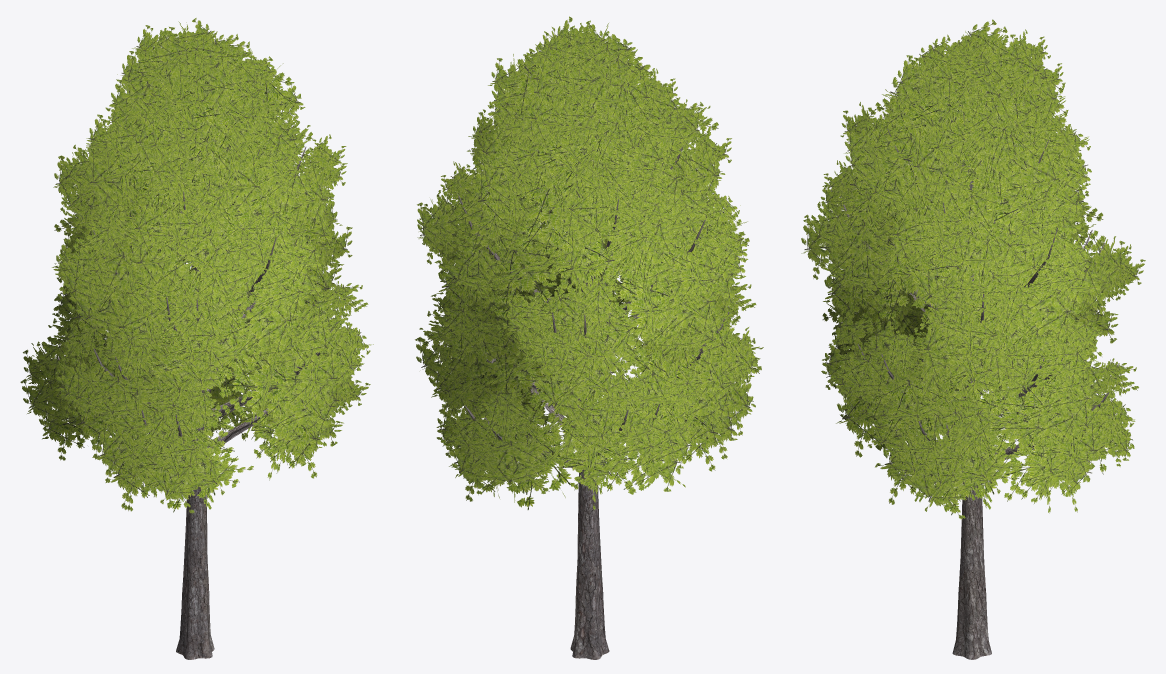
Rendered from arbol_igor_1.obj.
The picture shows the model from 3 angles, left to right: view 1: azimuth 30°, elevation 25°; view 2: azimuth 150°, elevation 25°; view 3: azimuth 270°, elevation 25°; orthographic projection.
Visible parts, largest first — view 1: arbol_igor_1; view 2: arbol_igor_1; view 3: arbol_igor_1.
Boxes of the visible parts, left/top/right/bottom form: arbol_igor_1: left=20, top=18, right=373, bottom=659; arbol_igor_1: left=415, top=16, right=763, bottom=659; arbol_igor_1: left=801, top=19, right=1145, bottom=659.
Size of the model in its own units: 3.72 by 7 by 3.61.
